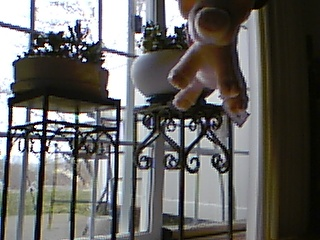piggy: (167, 1, 269, 112)
